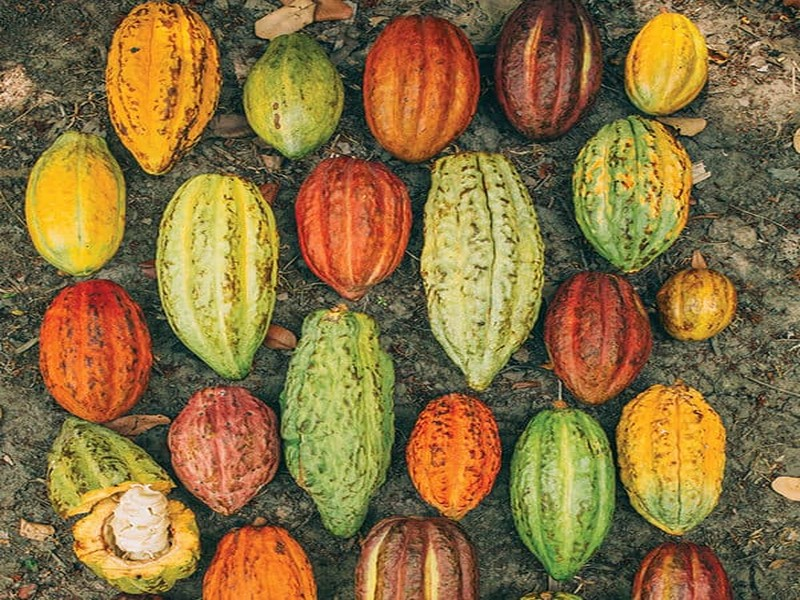Cacaopod: (419, 150, 545, 391), (278, 306, 401, 542), (151, 169, 282, 377), (569, 113, 694, 274), (509, 403, 618, 582), (104, 1, 213, 178), (363, 13, 482, 163), (294, 156, 410, 305), (616, 382, 729, 533), (37, 283, 150, 424), (23, 132, 129, 279), (495, 1, 604, 136), (241, 33, 340, 161), (624, 13, 709, 114)
